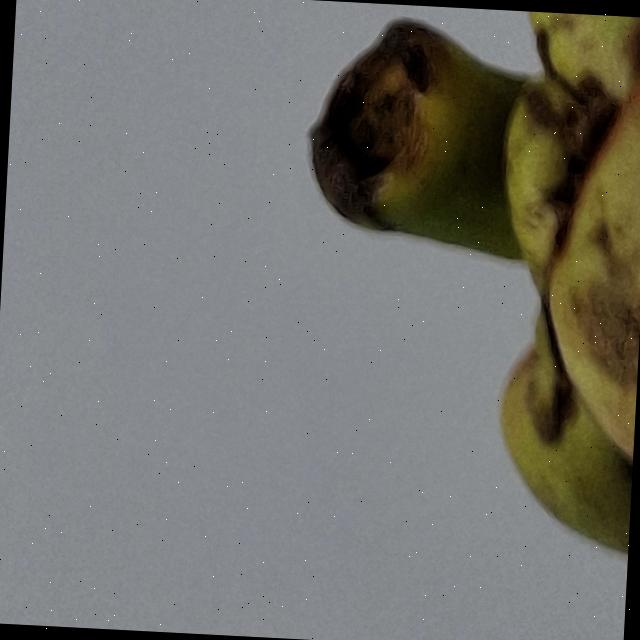mangosteen: (248, 0, 640, 640)
